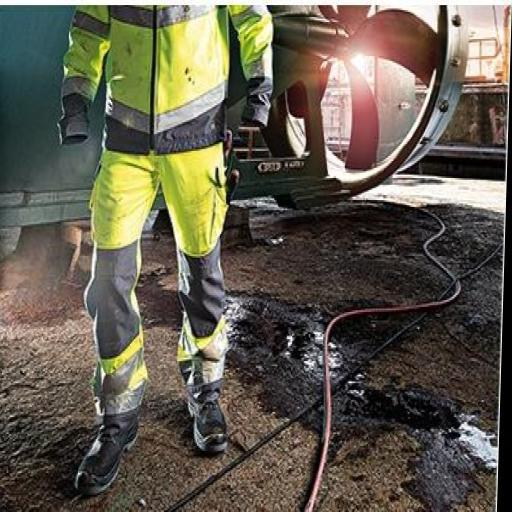safety_boots: (50, 408, 139, 494), (179, 395, 249, 454)
